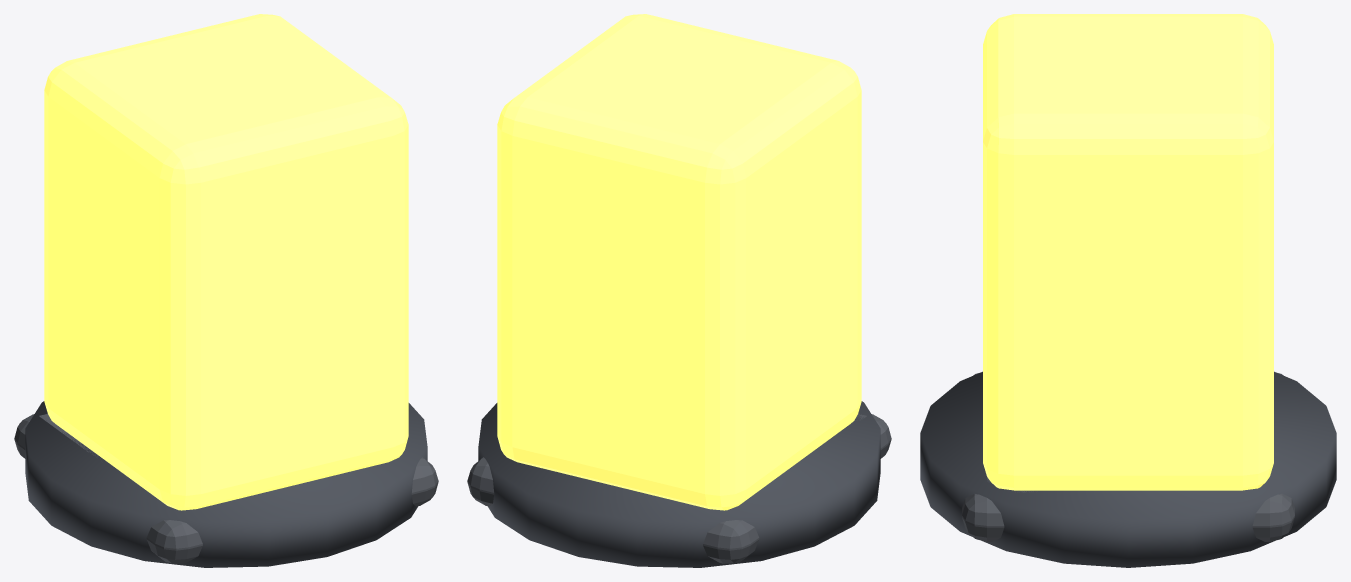
Rendered from table_lamp_cube.glb.
3 views of the same model, side by side, from view 1: azimuth 30°, elevation 25°; view 2: azimuth 150°, elevation 25°; view 3: azimuth 270°, elevation 25° (orthographic). The views are drawn at different scales.
Visible parts, largest first — view 1: GD_table_lamp_cube__m1, GD_table_lamp_cube__m0, GD_table_lamp_cube__m2; view 2: GD_table_lamp_cube__m1, GD_table_lamp_cube__m0, GD_table_lamp_cube__m2; view 3: GD_table_lamp_cube__m1, GD_table_lamp_cube__m0, GD_table_lamp_cube__m2.
Part boxes in pixels (x1,y1,x2,y2): GD_table_lamp_cube__m1: [44, 14, 408, 510]; GD_table_lamp_cube__m0: [25, 401, 427, 567]; GD_table_lamp_cube__m2: [14, 414, 438, 563]; GD_table_lamp_cube__m1: [497, 14, 861, 510]; GD_table_lamp_cube__m0: [478, 401, 880, 567]; GD_table_lamp_cube__m2: [467, 414, 891, 563]; GD_table_lamp_cube__m1: [983, 14, 1273, 490]; GD_table_lamp_cube__m0: [920, 371, 1336, 567]; GD_table_lamp_cube__m2: [962, 373, 1294, 541].
Bounding box in the file's own units: 0.2 × 0.22 × 0.2.
